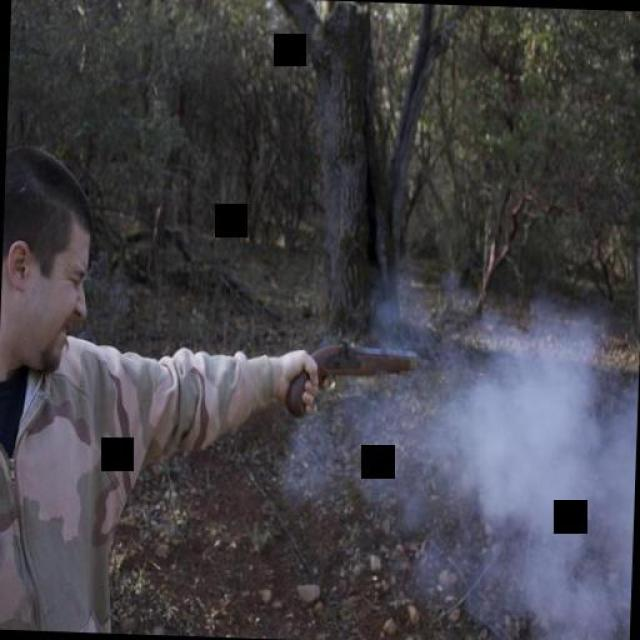gun: (280, 330, 424, 426)
